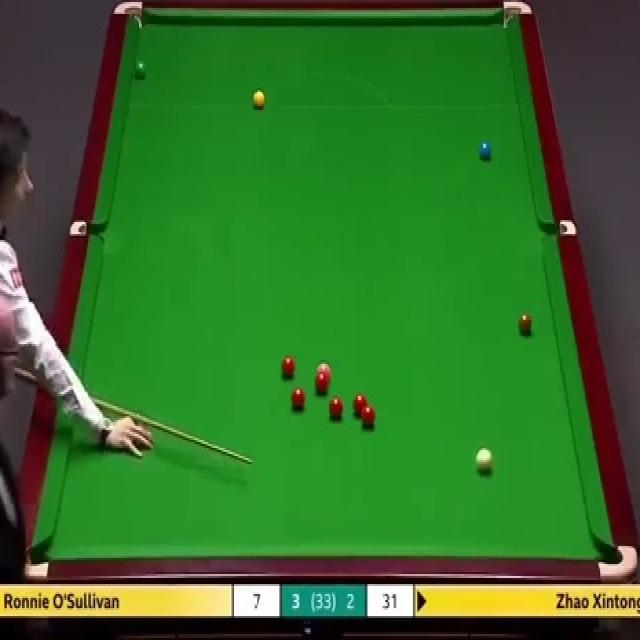pocket: (596, 542, 638, 582), (500, 0, 532, 32), (112, 0, 147, 29), (24, 543, 50, 582), (540, 218, 577, 237), (69, 218, 104, 238)
